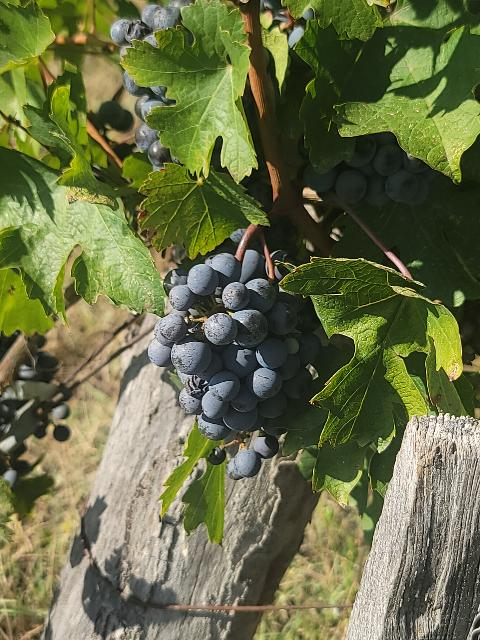grapes: (149, 252, 321, 440)
